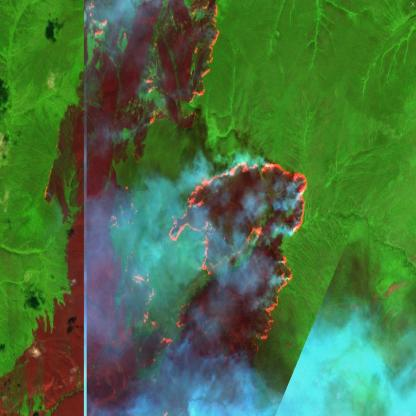fire: (111, 153, 309, 353), (86, 0, 221, 127)
